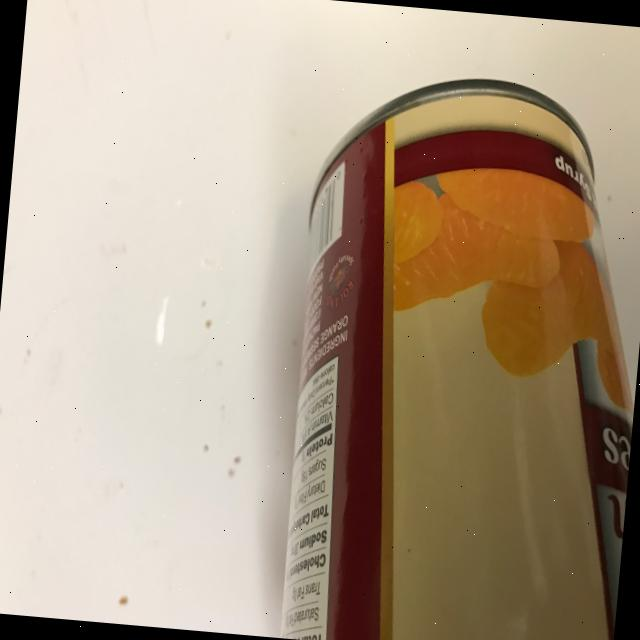metal: (271, 63, 640, 640)
